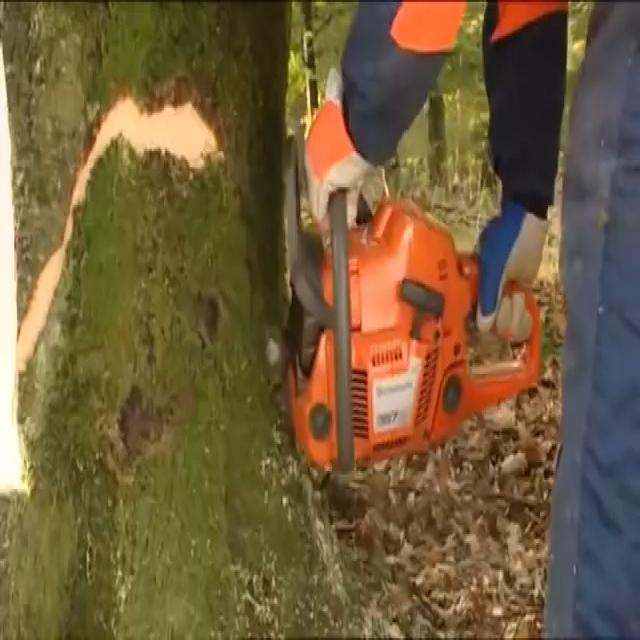Chainsaw: (249, 120, 574, 480)
